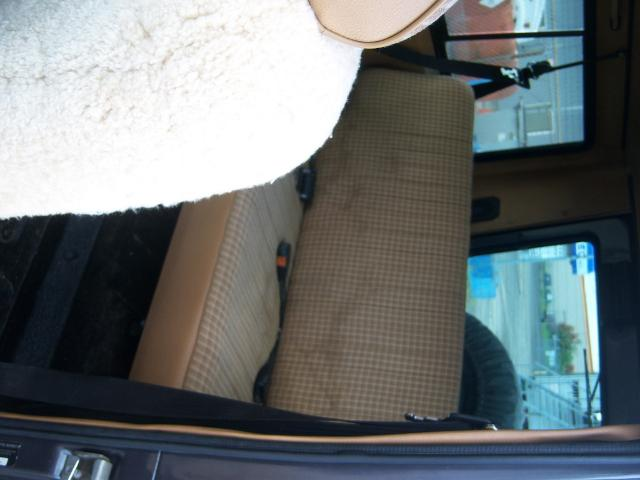Seatbelt: (0, 364, 492, 430)
